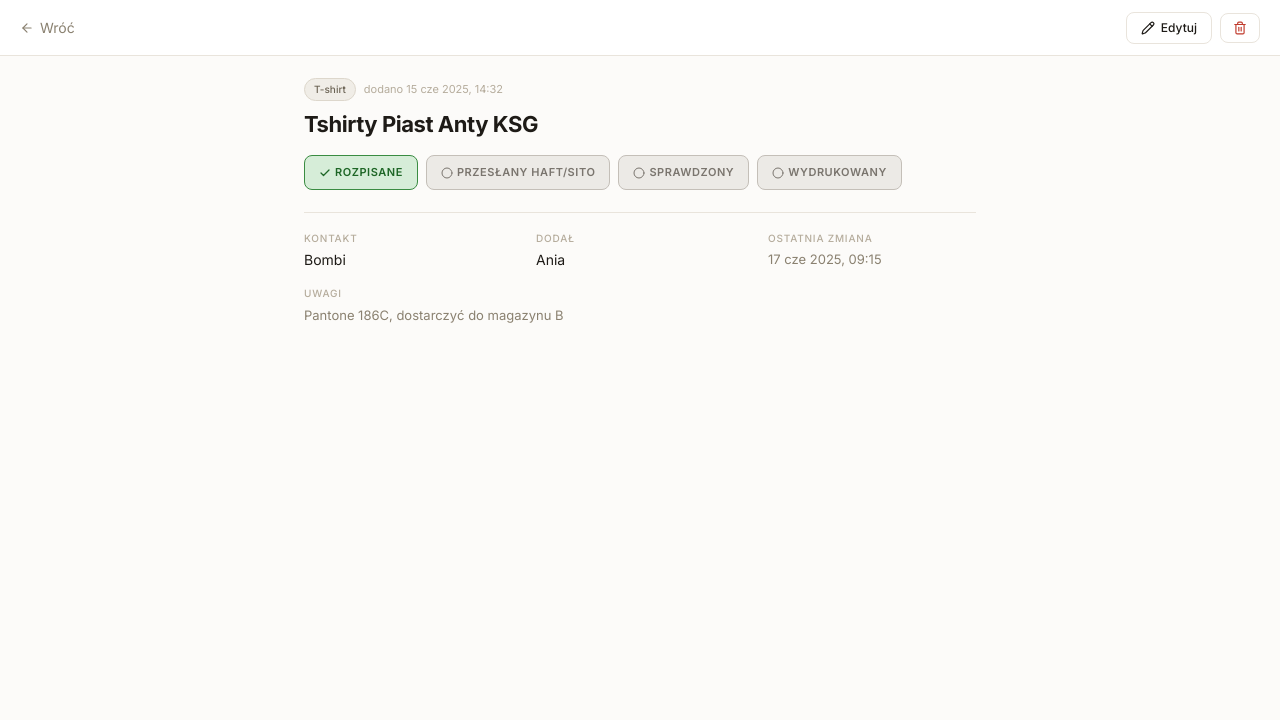
SzczegolyWidok › mobile: „Anuluj" zamyka sheet bez mutacji
Click the button "SPRAWDZONY": (684, 173) top-left (618, 155), bottom-right (749, 190)
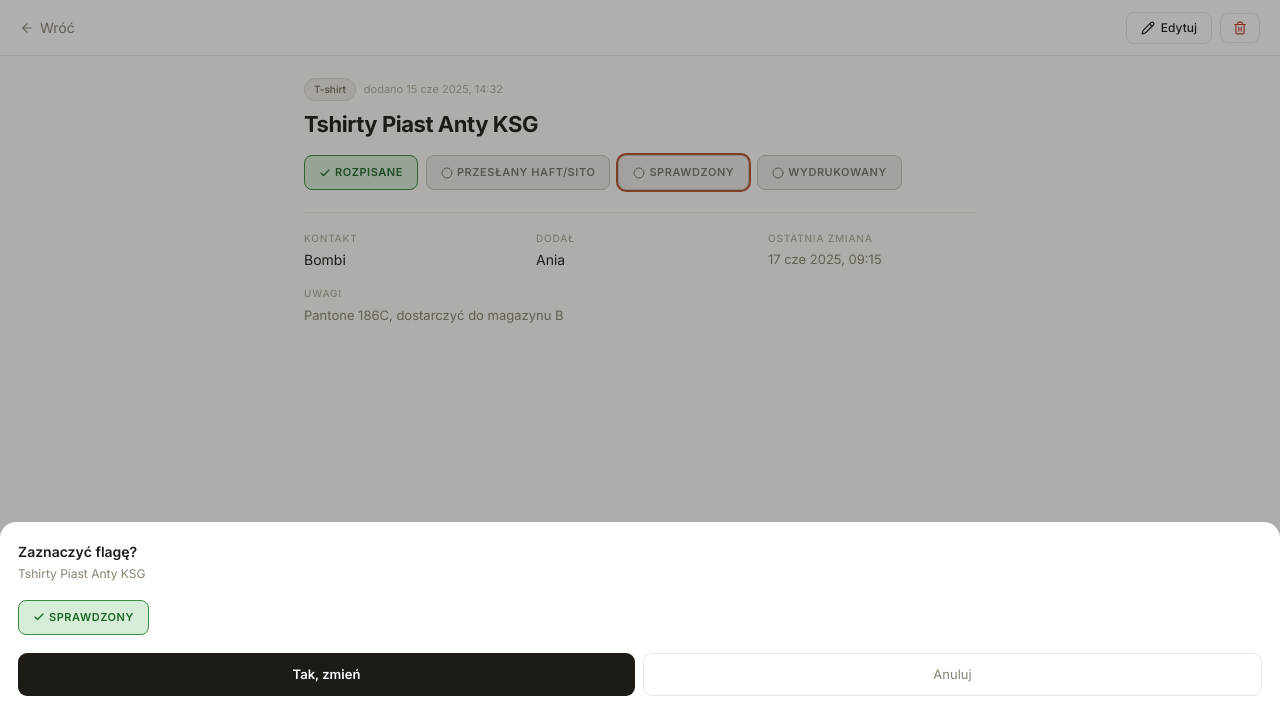
Click the button "Anuluj": (952, 674) top-left (643, 652), bottom-right (1262, 696)
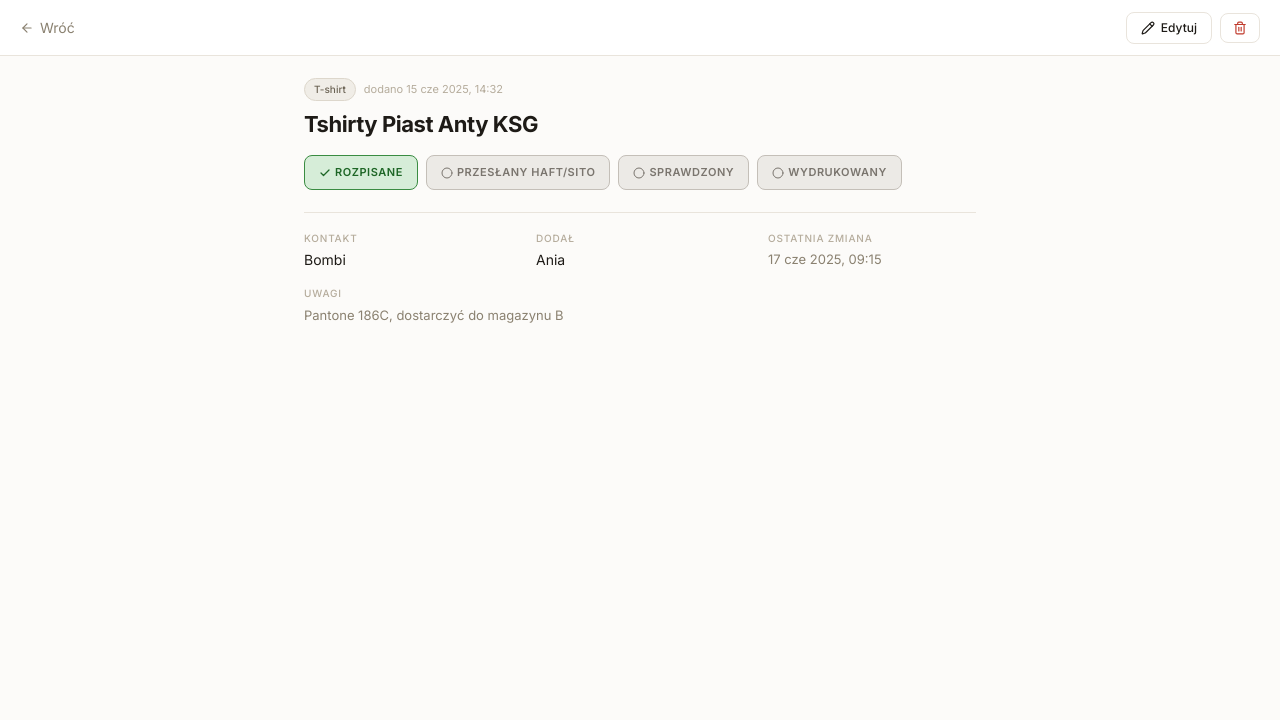
Expected: the dialog is gone
